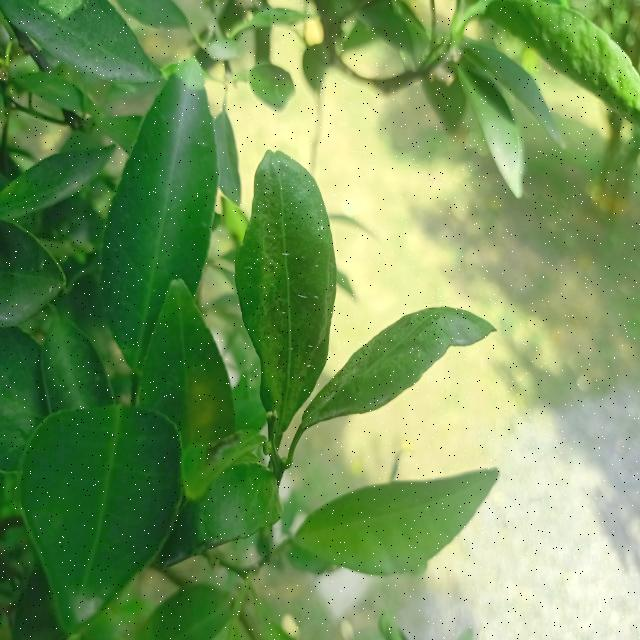blackspot: (251, 193, 332, 408), (330, 307, 461, 425)
